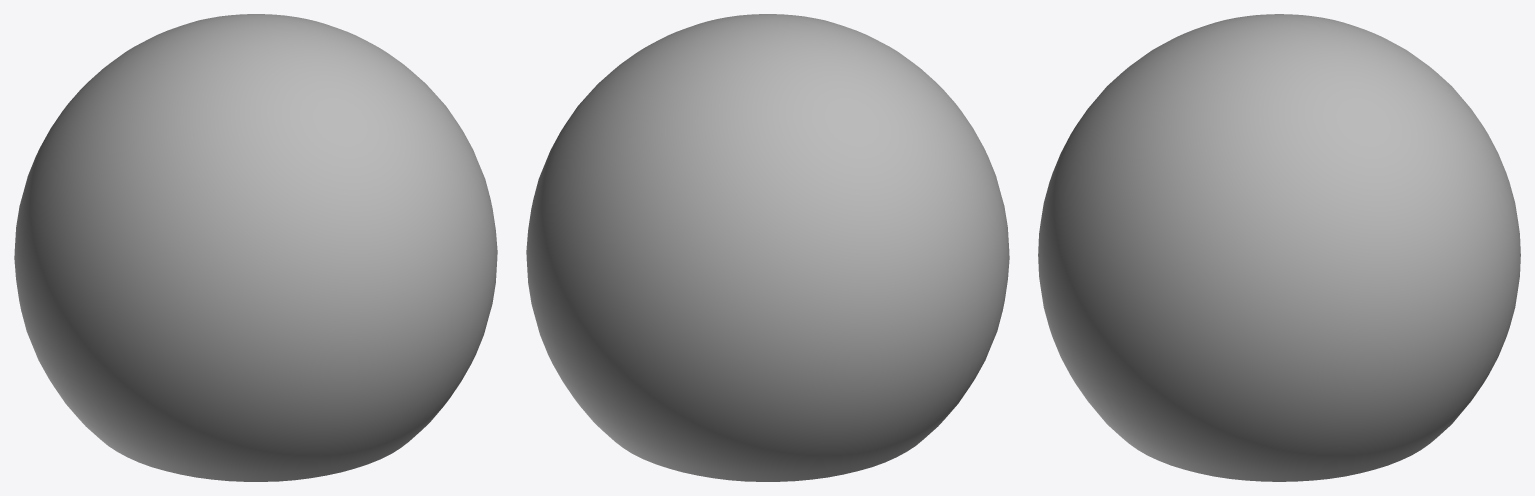
The model's file is mono_compuesto.glb.
3 renders of one model, left to right at view 1: azimuth 30°, elevation 25°; view 2: azimuth 150°, elevation 25°; view 3: azimuth 270°, elevation 25°, orthographic.
Parts seen in each view (by area): view 1: build_scene:build_scene:Snow_Scene_Snow_Globe:___Default1_0_; view 2: build_scene:build_scene:Snow_Scene_Snow_Globe:___Default1_0_; view 3: build_scene:build_scene:Snow_Scene_Snow_Globe:___Default1_0_.
Part boxes in pixels (box(x1,y1,x2,y2)): build_scene:build_scene:Snow_Scene_Snow_Globe:___Default1_0_: box(14, 14, 497, 481); build_scene:build_scene:Snow_Scene_Snow_Globe:___Default1_0_: box(526, 14, 1009, 481); build_scene:build_scene:Snow_Scene_Snow_Globe:___Default1_0_: box(1038, 14, 1520, 481).
Size of the model in its own units: 24.85 by 21.2 by 24.85.
1 material, 1 textured.
